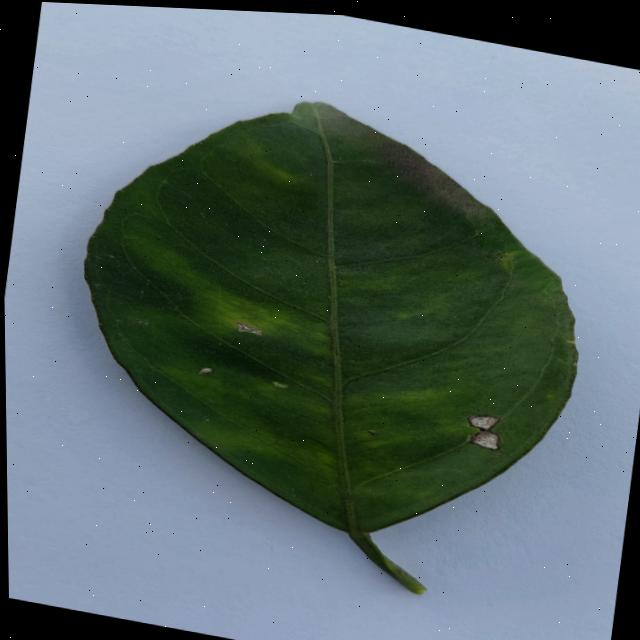greening: (88, 103, 576, 592)
